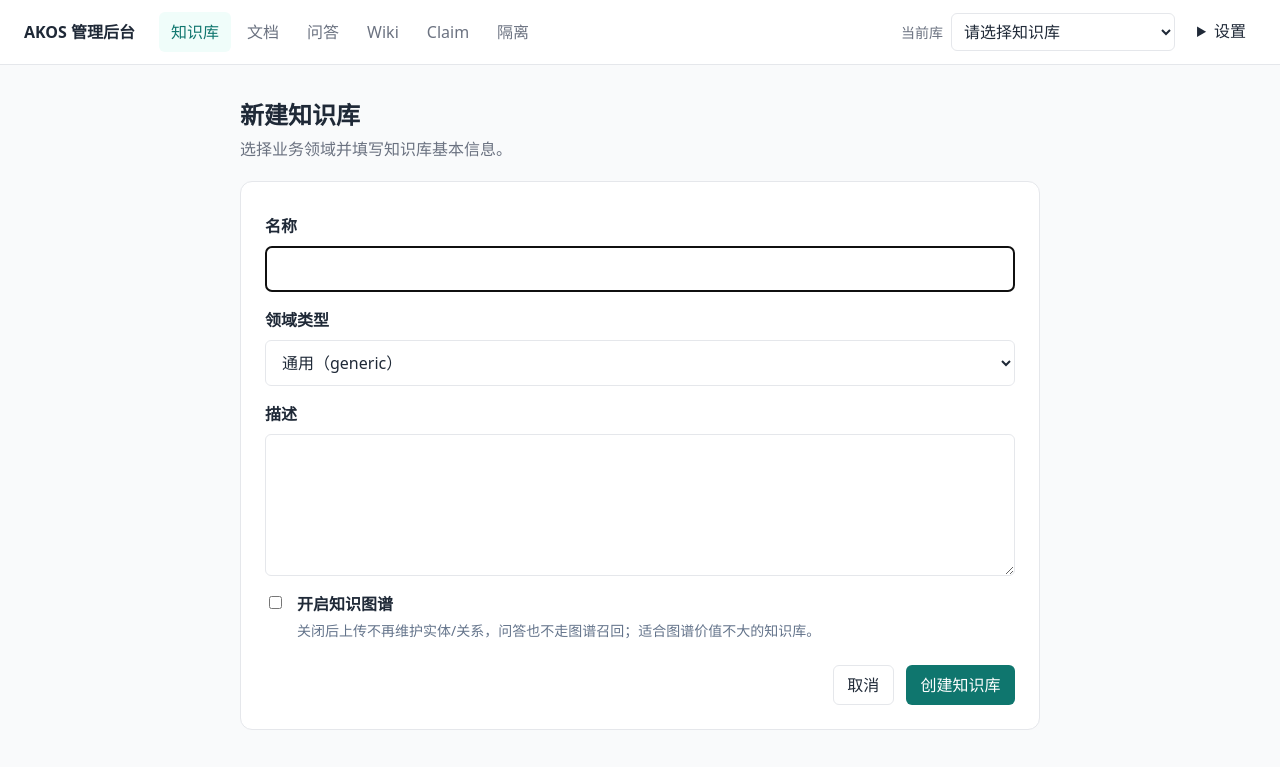
knowledge base pages › creates a knowledge base and opens its detail page
Type "企业文化" into the field labelled "名称".
click(640, 269); type("企业文化")  # box [265,246,1015,292]
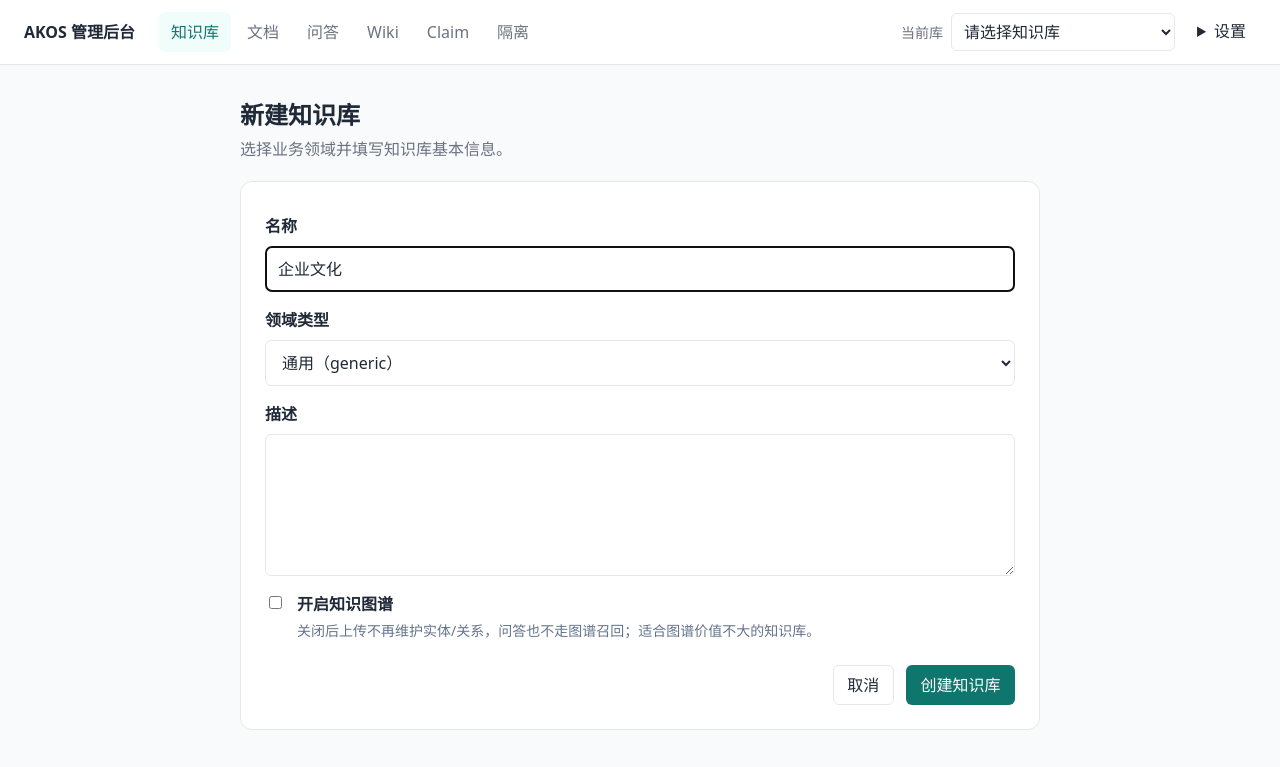
Select "企业文化（corporate_culture）" in the dropdown labelled "领域类型" at (640, 363), box [265,340,1015,386]
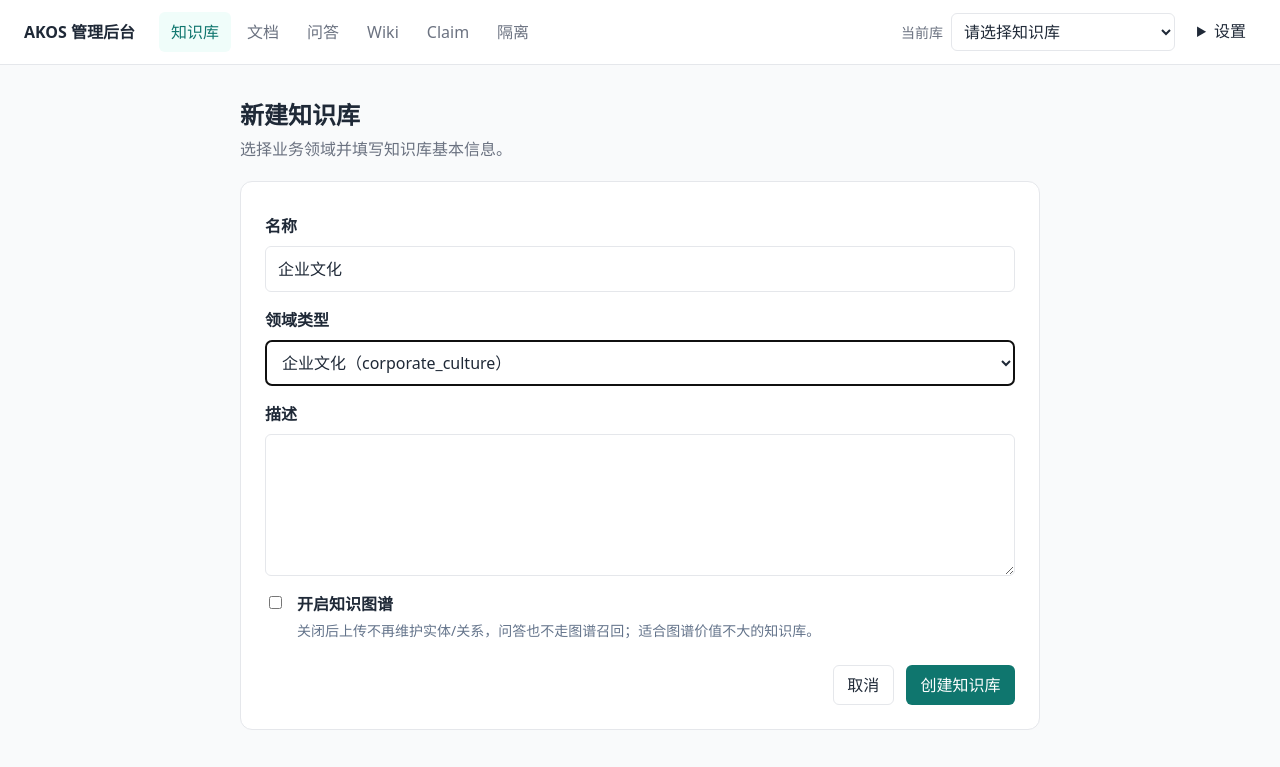
Type "公司价值观" into the text box labelled "描述".
click(640, 505); type("公司价值观")  # box [265,434,1015,576]
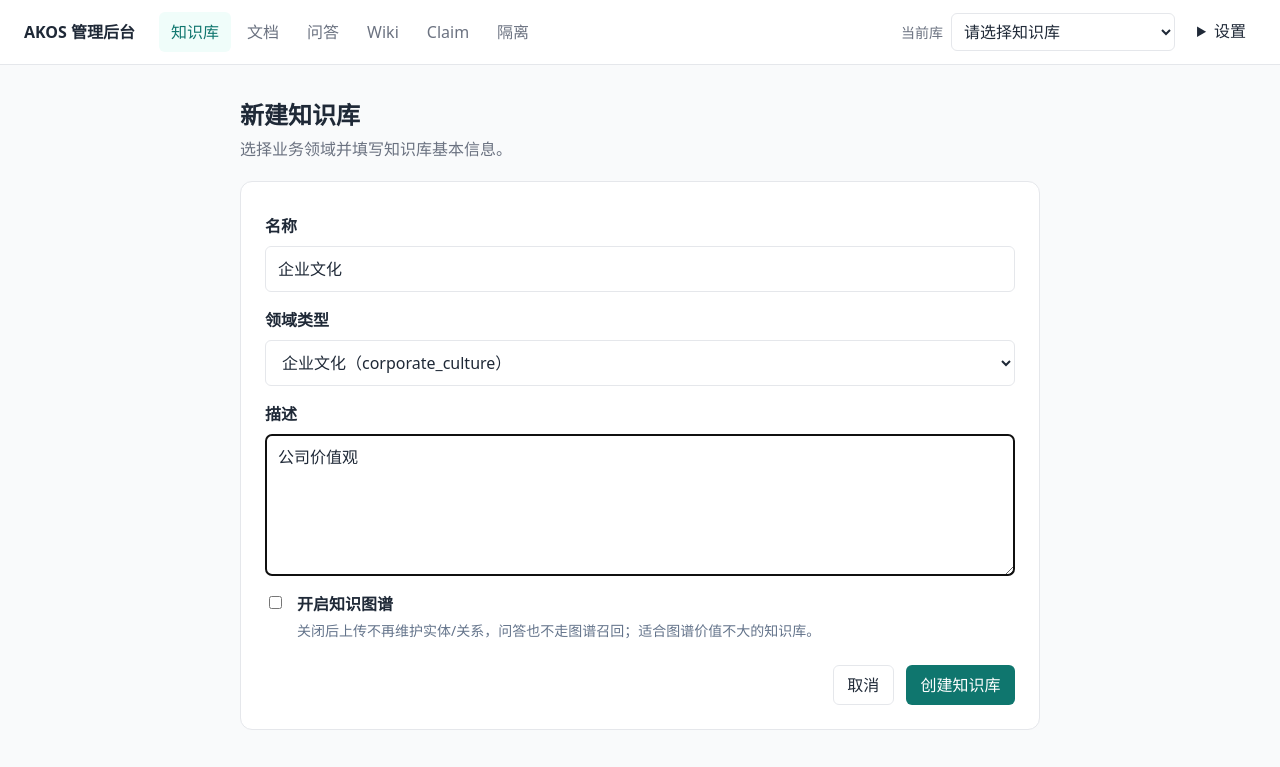
Click the button "创建知识库".
click(960, 685)  # box [906,665,1015,705]
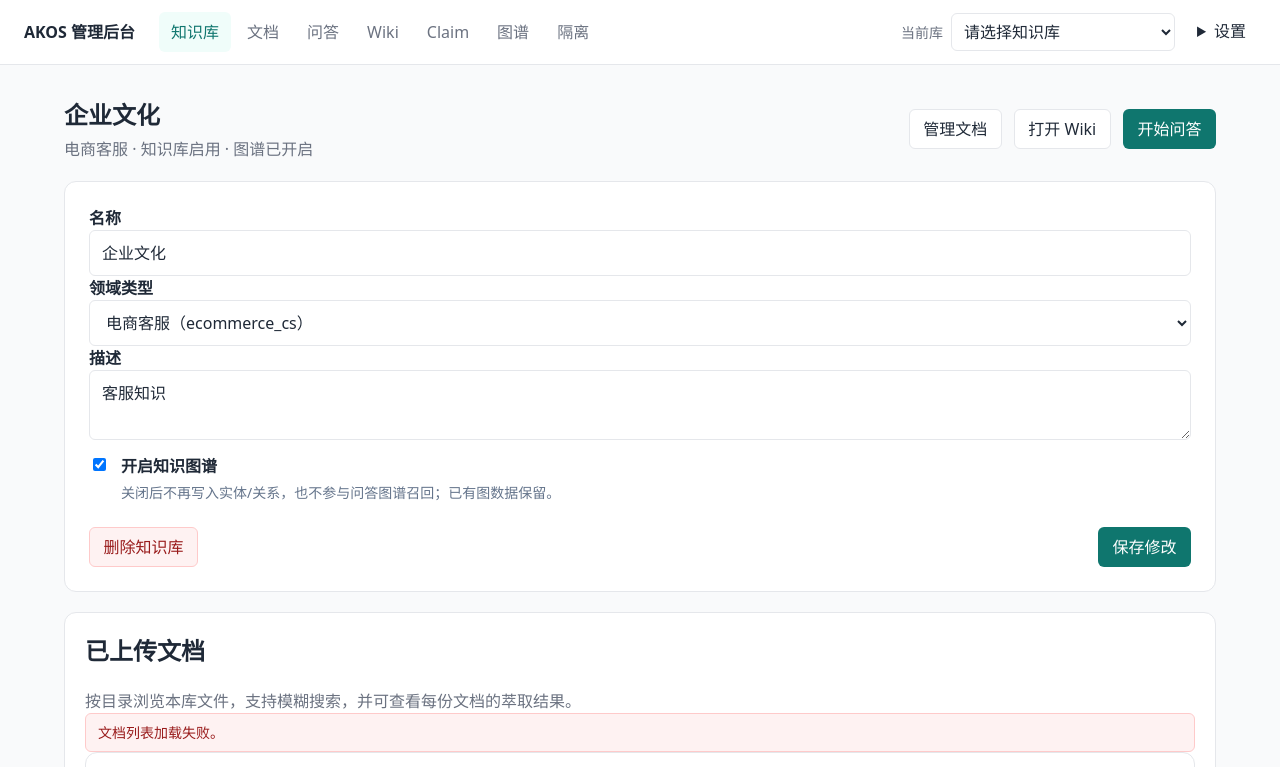
Result: the heading "企业文化" is shown at [64,98,160,131]
